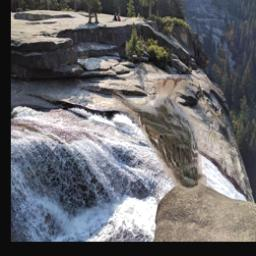Sparrow: (110, 75, 208, 195)
